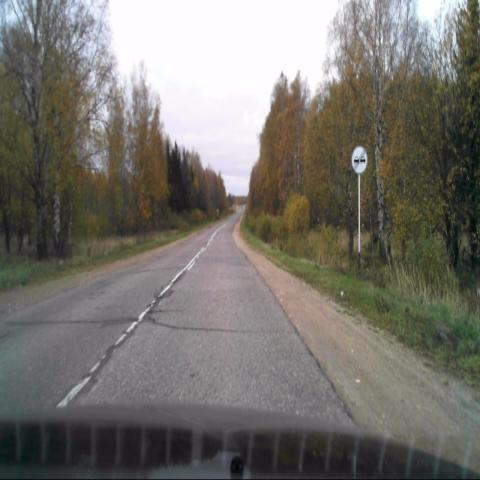3_21: (351, 146, 368, 176)
